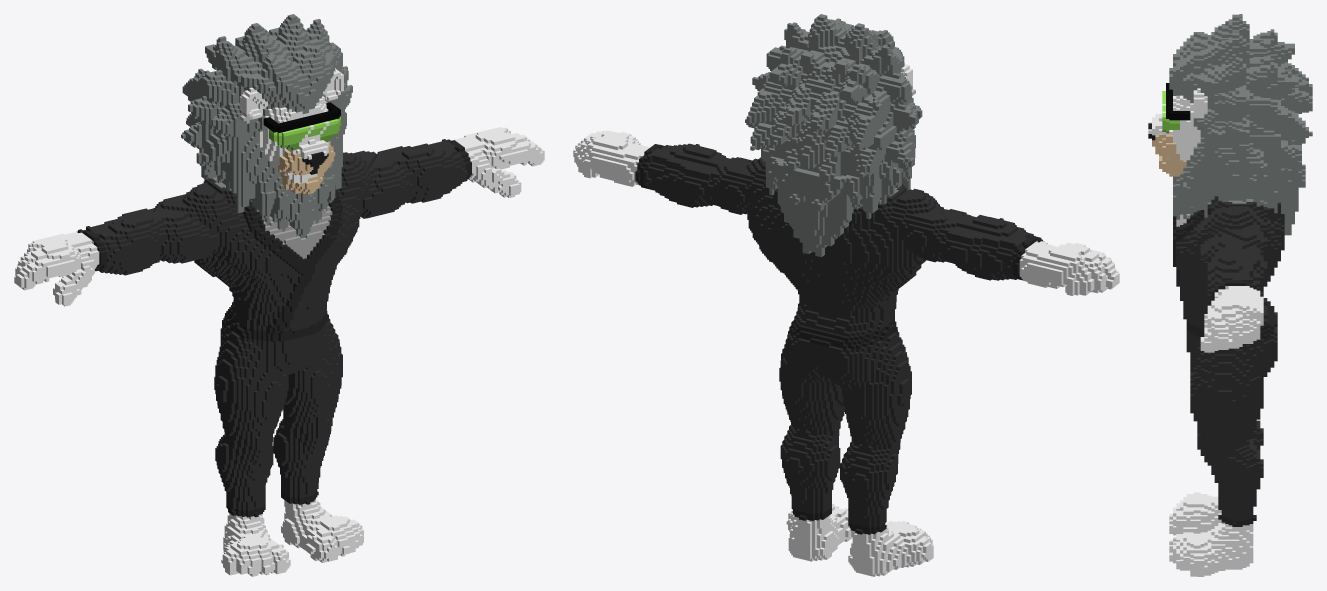
The model's file is 12-CrZPRb00.fbx.
3 renders of one model, left to right at view 1: azimuth 30°, elevation 25°; view 2: azimuth 150°, elevation 25°; view 3: azimuth 270°, elevation 25°, orthographic. The views are drawn at different scales.
Visible parts, largest first — view 1: grin; view 2: grin; view 3: grin.
Boxes of the visible parts, x1,y1,x2,y2 form: grin: (14,14,544,576); grin: (573,14,1119,576); grin: (1148,14,1312,576).
Size of the model in its own units: 17.2 by 16.5 by 4.7.
6 materials, 6 textured.
